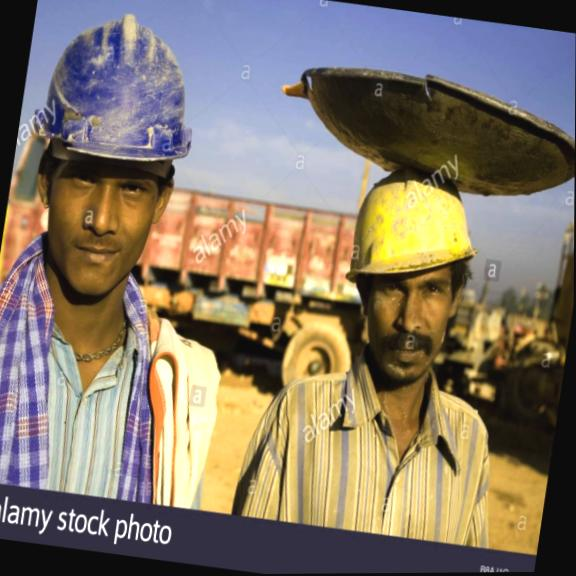no_safety_vest: (227, 324, 521, 551), (0, 258, 240, 513)
